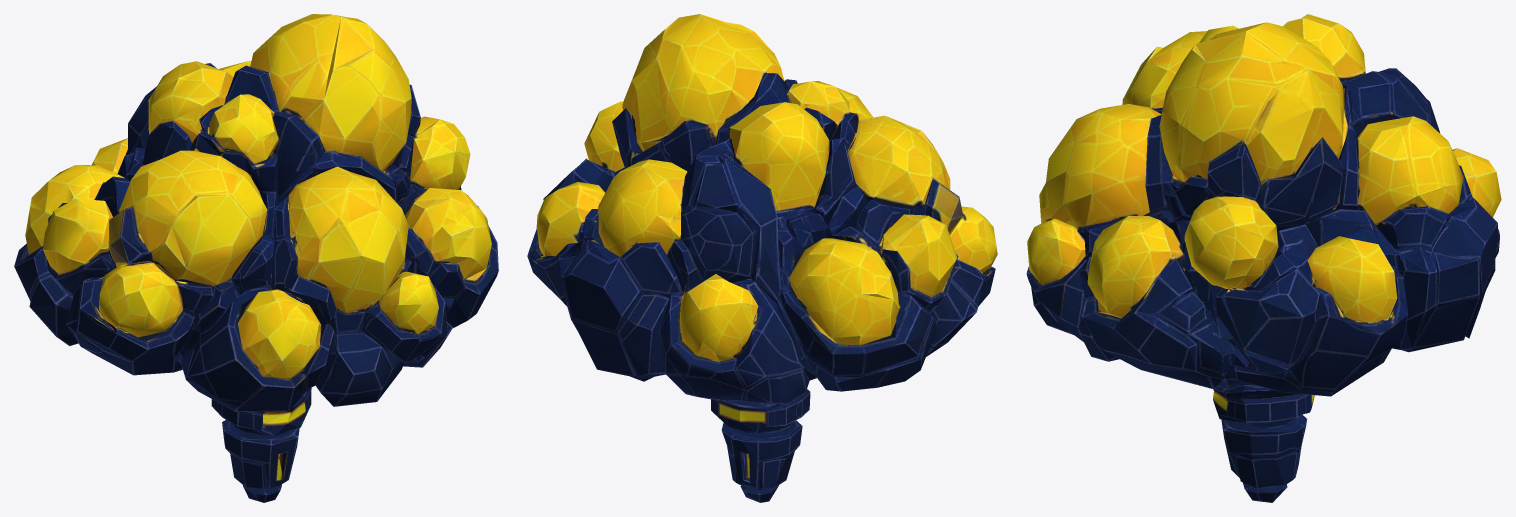
Rendered from 038c51d7-a513-4ccb-b829-708ab6f900cf_part_42_optimized.glb.
3 views of the same model, side by side, from view 1: azimuth 30°, elevation 25°; view 2: azimuth 150°, elevation 25°; view 3: azimuth 270°, elevation 25° (orthographic). The views are drawn at different scales.
Parts seen in each view (by area): view 1: output_unwrapped; view 2: output_unwrapped; view 3: output_unwrapped.
Part boxes in pixels (box(x1,y1,x2,y2)): output_unwrapped: box(14, 14, 498, 502); output_unwrapped: box(527, 14, 997, 502); output_unwrapped: box(1026, 14, 1501, 502).
Size of the model in its own units: 1.72 by 1.9 by 1.62.
Materials: 1 (1 with a texture image).
